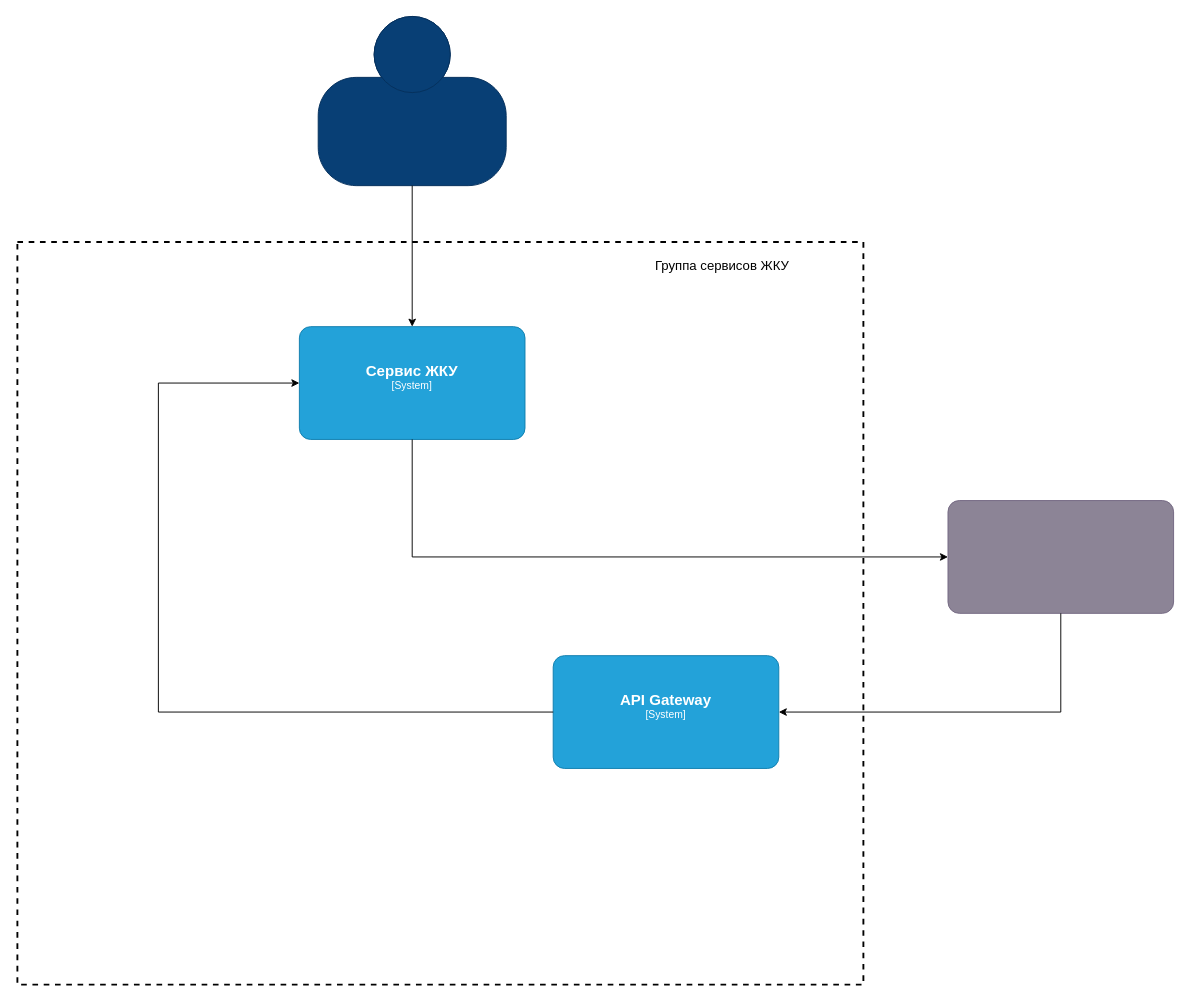
This 1190x1002 diagram has some shape labels left out. Each missing label, with the box of its shape:
Сервис "Умный Дом" [Software System]: (947, 500, 1174, 613)
Собственник [Person] Клиент: (317, 16, 506, 186)
